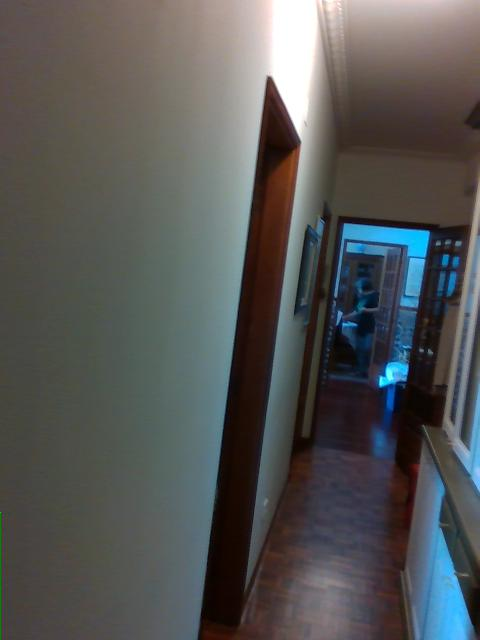door: (392, 224, 471, 463), (367, 247, 401, 380)
